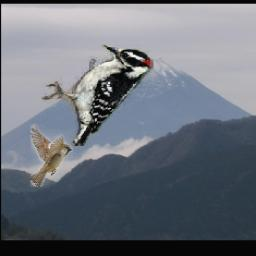Sparrow: (29, 124, 72, 187)
Woodpecker: (40, 44, 153, 146)
